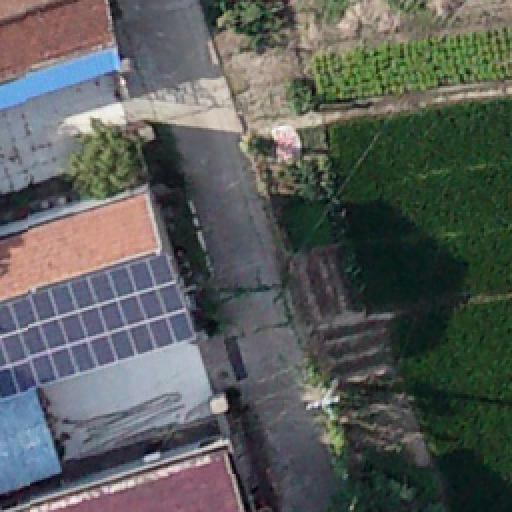solar-panel: (0, 254, 192, 398)
